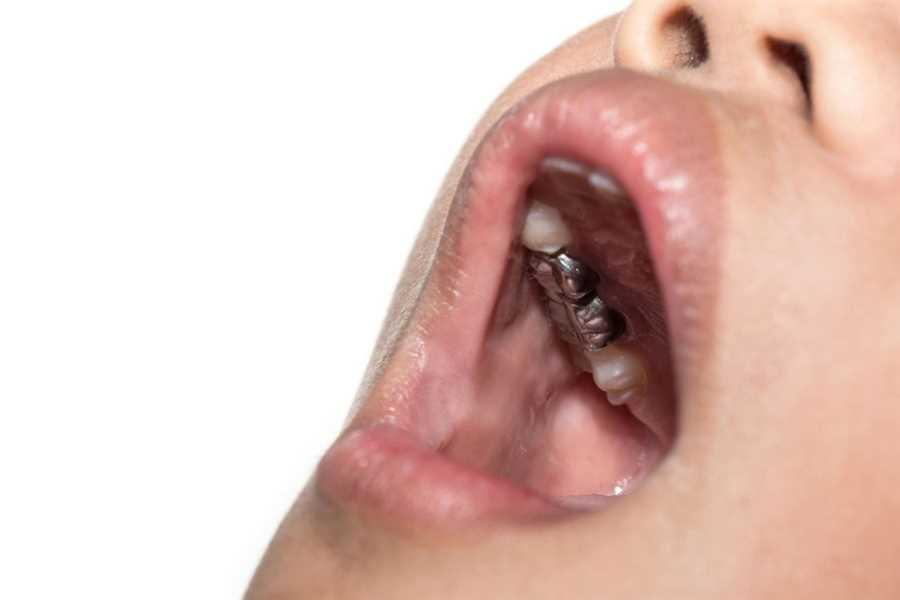crown: (537, 297, 634, 351), (523, 246, 600, 301)
